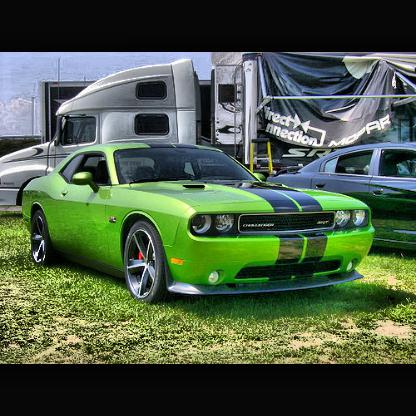Dodge Challenger SRT8 2011: (24, 145, 375, 305)
